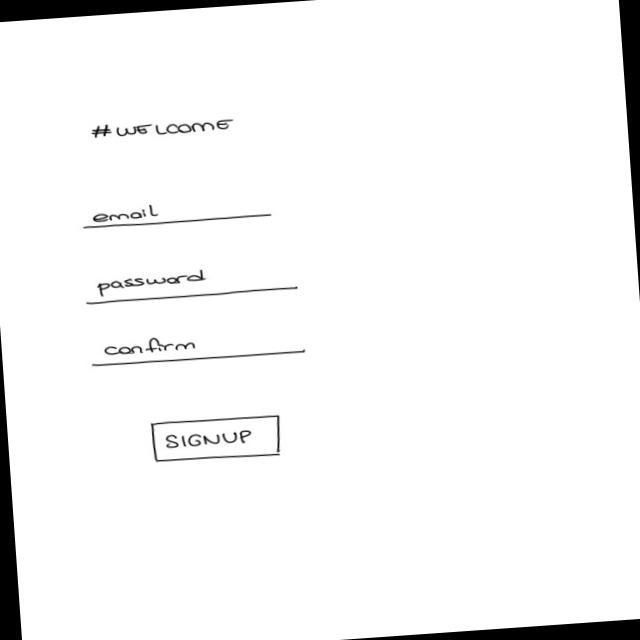button: (151, 413, 286, 467)
input: (82, 260, 300, 308), (89, 324, 307, 370), (80, 195, 275, 231)
label: (87, 113, 236, 143)
